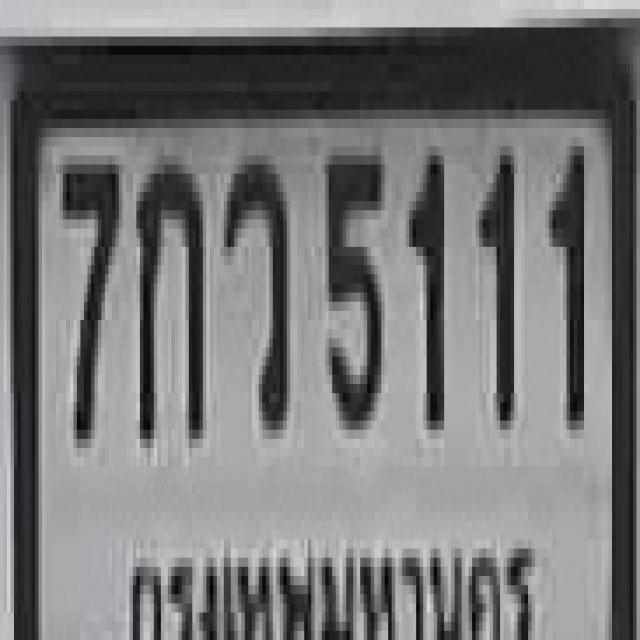-: (133, 155, 199, 439), (220, 155, 287, 430)
1: (546, 137, 580, 421), (406, 146, 440, 421), (476, 146, 510, 421)
5: (322, 146, 381, 421)
7: (60, 160, 116, 434)
BKK: (126, 524, 538, 640)
